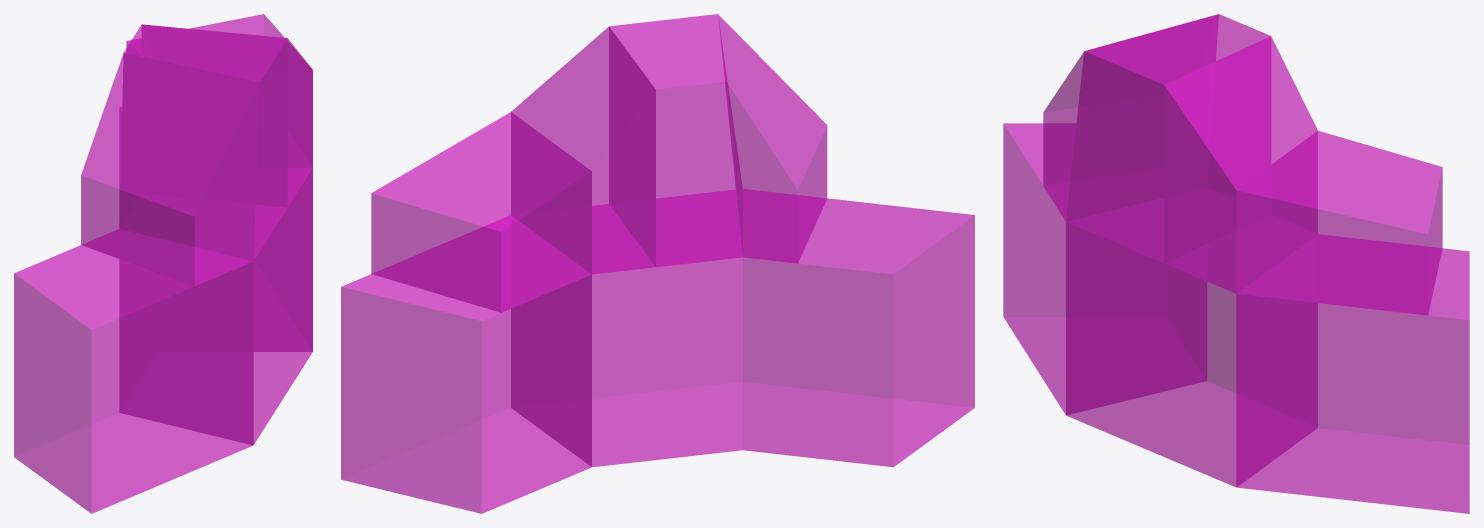
File: SM_Bld_Wall_L_Curve_Half_Damaged_04_Collision.fbx
The picture shows the model from 3 angles, left to right: view 1: azimuth 30°, elevation 25°; view 2: azimuth 150°, elevation 25°; view 3: azimuth 270°, elevation 25°; orthographic projection. The views are drawn at different scales.
Parts seen in each view (by area): view 1: SM_Bld_Wall_L_Curve_Half_Damaged_04_Collision; view 2: SM_Bld_Wall_L_Curve_Half_Damaged_04_Collision; view 3: SM_Bld_Wall_L_Curve_Half_Damaged_04_Collision.
Part boxes in pixels (x1,y1,x2,y2): SM_Bld_Wall_L_Curve_Half_Damaged_04_Collision: [14, 14, 312, 513]; SM_Bld_Wall_L_Curve_Half_Damaged_04_Collision: [341, 14, 974, 513]; SM_Bld_Wall_L_Curve_Half_Damaged_04_Collision: [1003, 14, 1469, 513].
Size of the model in its own units: 336 by 296 by 336.
